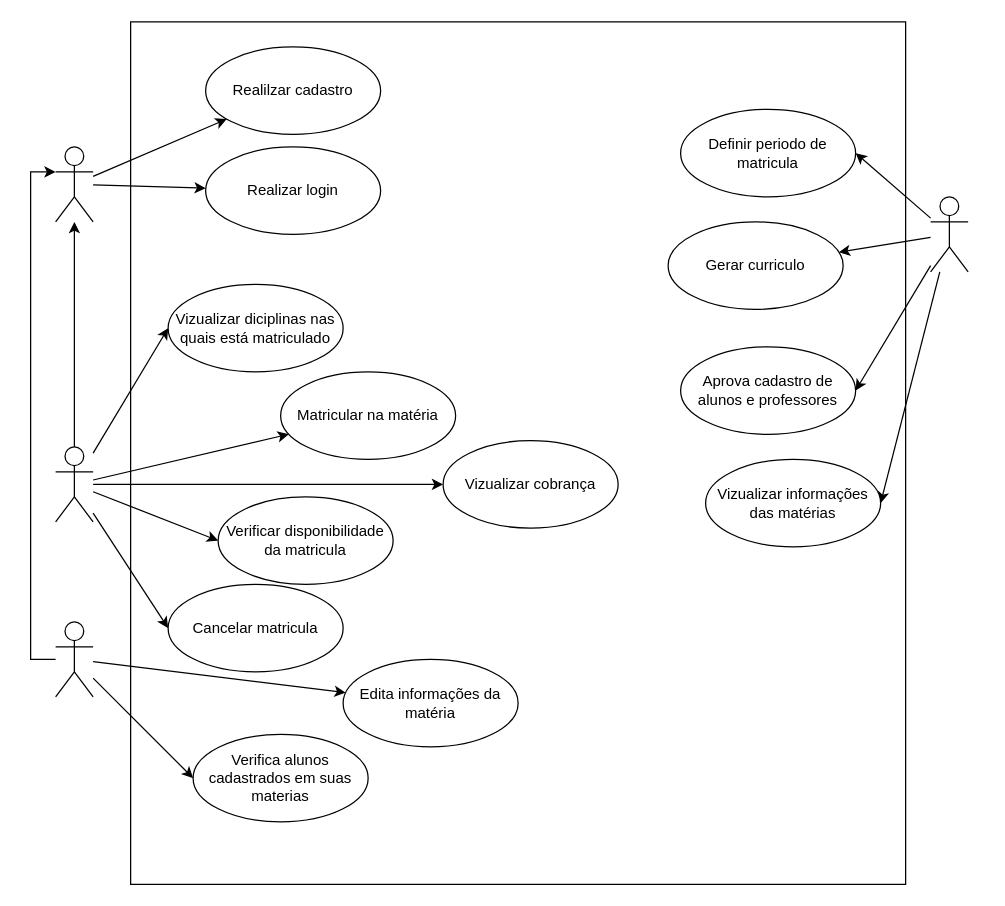
Some shapes in this 1005 by 906 pixel diagram are drawn without their labels. The shapes that lost their labels are listed below. From the top down, each one's box as (x1, y1, x2, y2) in pixels, then its label:
(54, 146, 93, 222): Usuário
(929, 196, 968, 272): Secretario
(54, 446, 93, 522): Aluno
(54, 621, 93, 697): Professor
